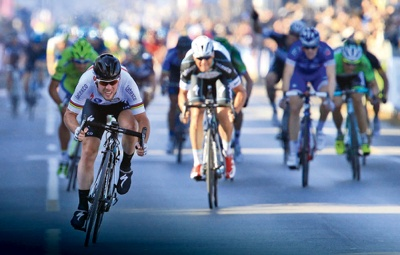helmet: (94, 52, 121, 102)
